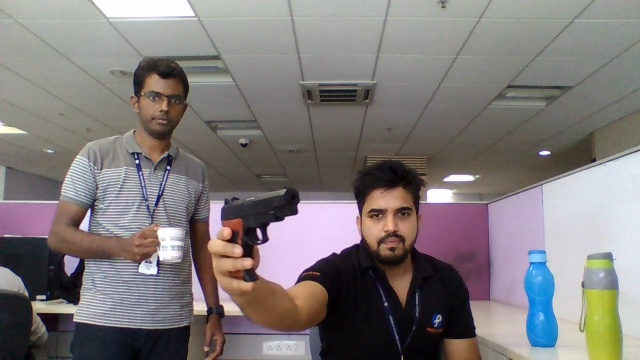gun: (230, 186, 303, 246)
